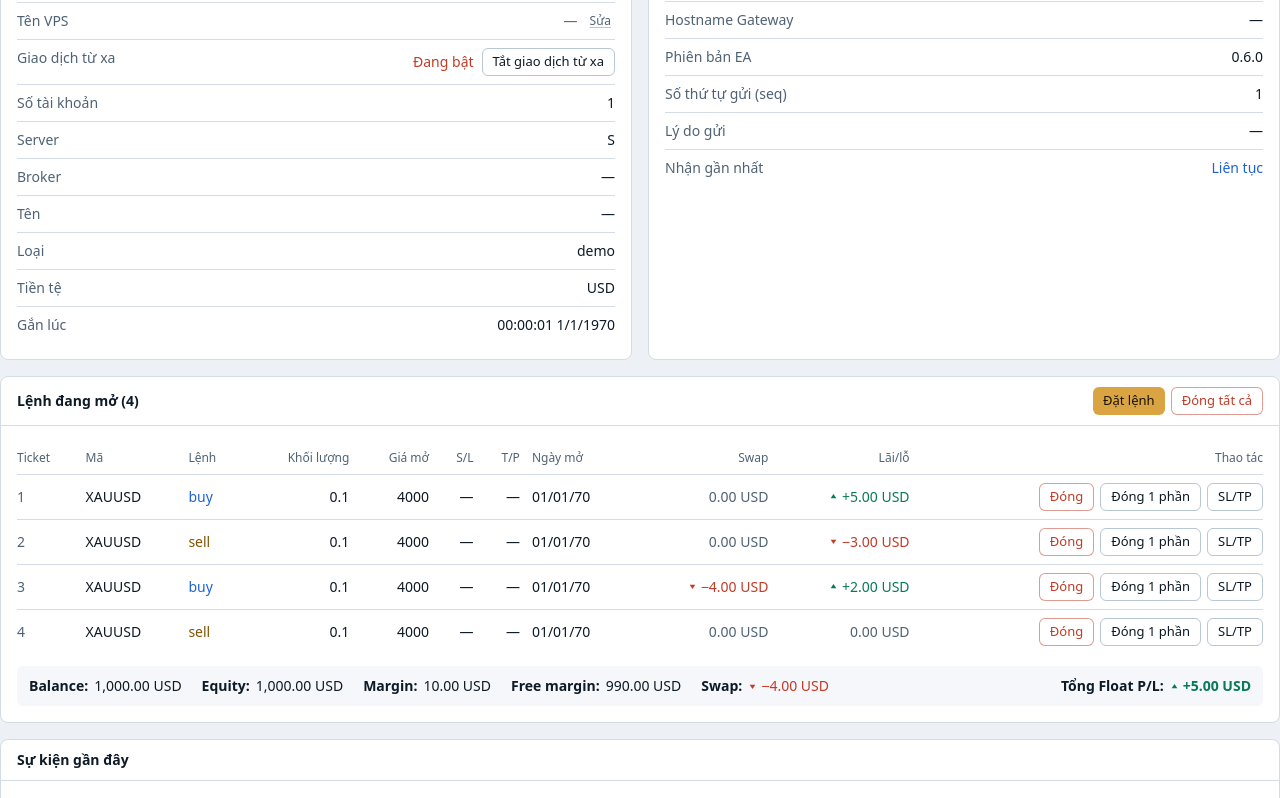
Đặt lệnh Market › SL/TP không phải số bị chặn
The image size is (1280, 798).
(page scrolled)
Step 1. Click the button "Đặt lệnh" → (1129, 400), box left=1093, top=386, right=1165, bottom=414
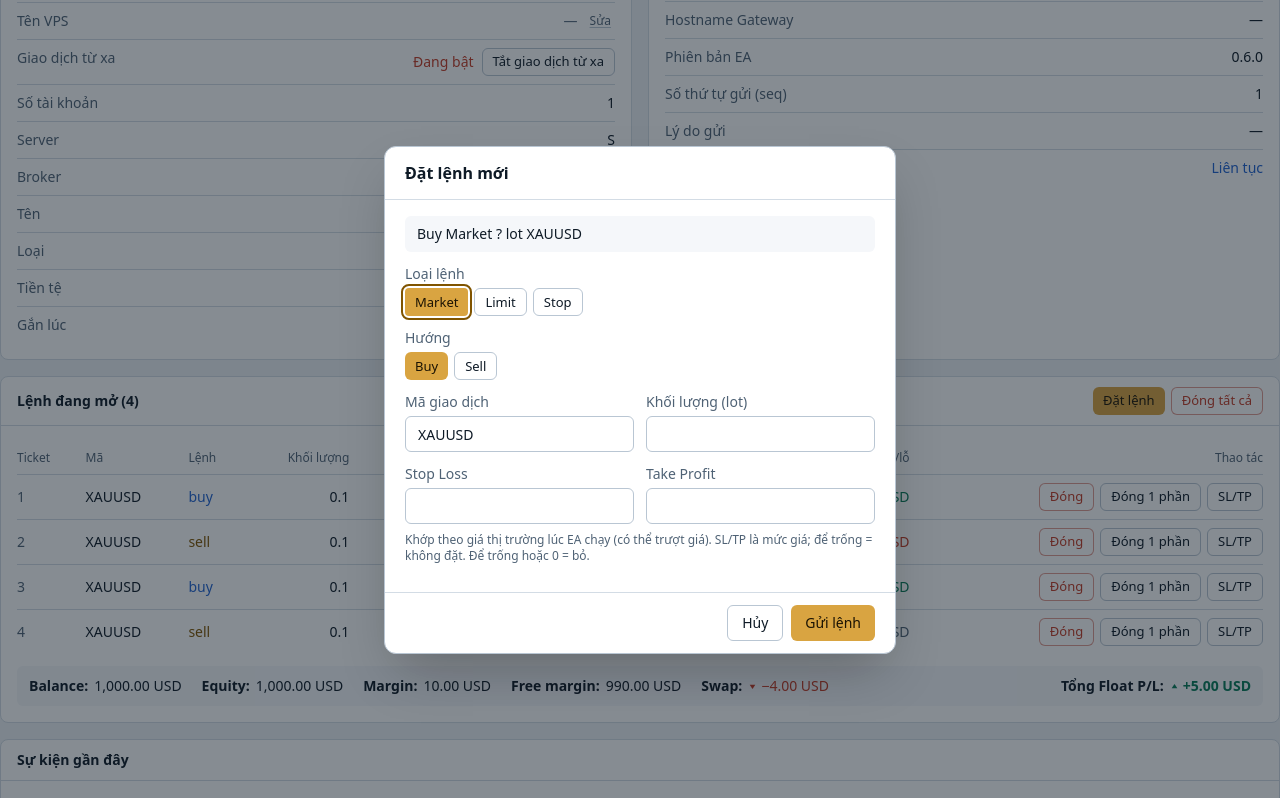
Step 2. Type "0.1" into the field labelled "Khối lượng (lot)" → (760, 434), box left=646, top=416, right=875, bottom=452
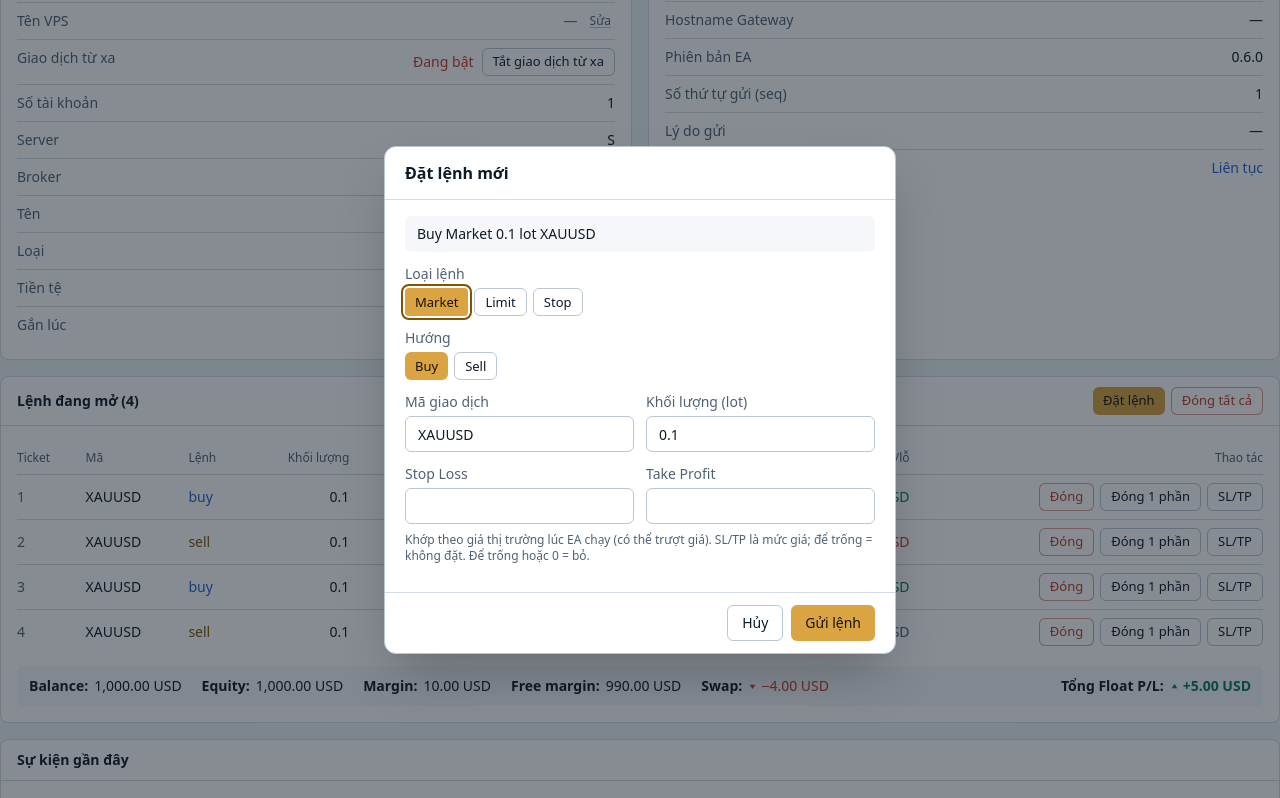
Step 3. Type "-5" into the field labelled "Stop Loss" → (520, 506), box left=405, top=488, right=634, bottom=524
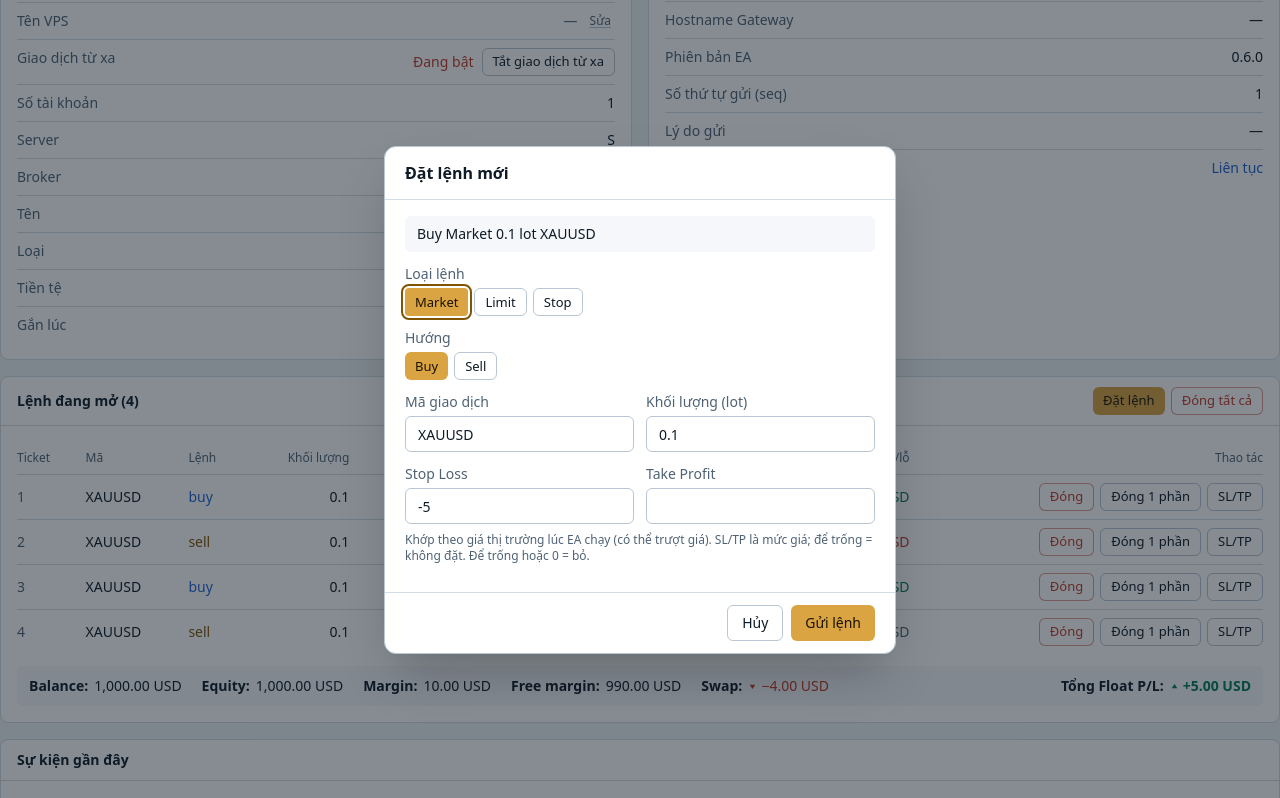
Step 4. Click the button "Gửi lệnh" → (833, 623), box left=791, top=605, right=875, bottom=641
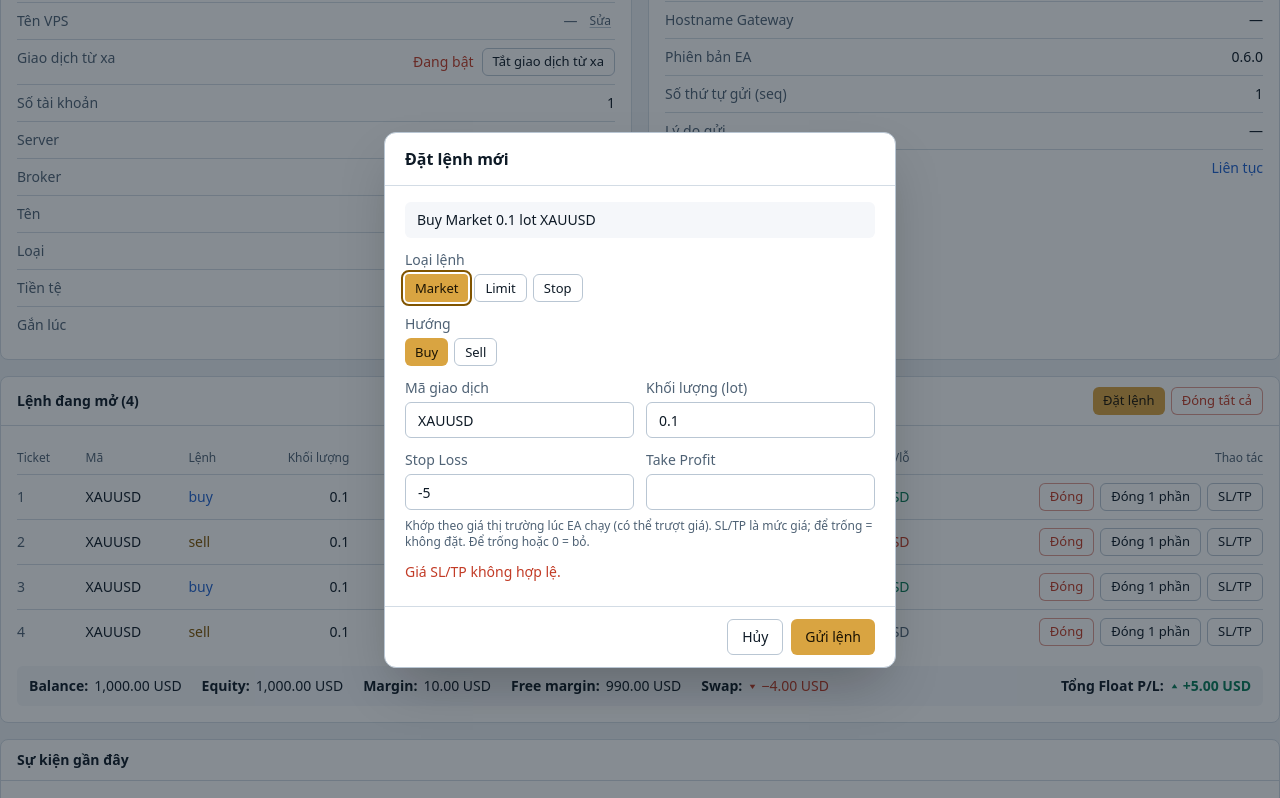
Result: the text "Giá SL/TP không hợp lệ." is shown at left=405, top=562, right=561, bottom=581
